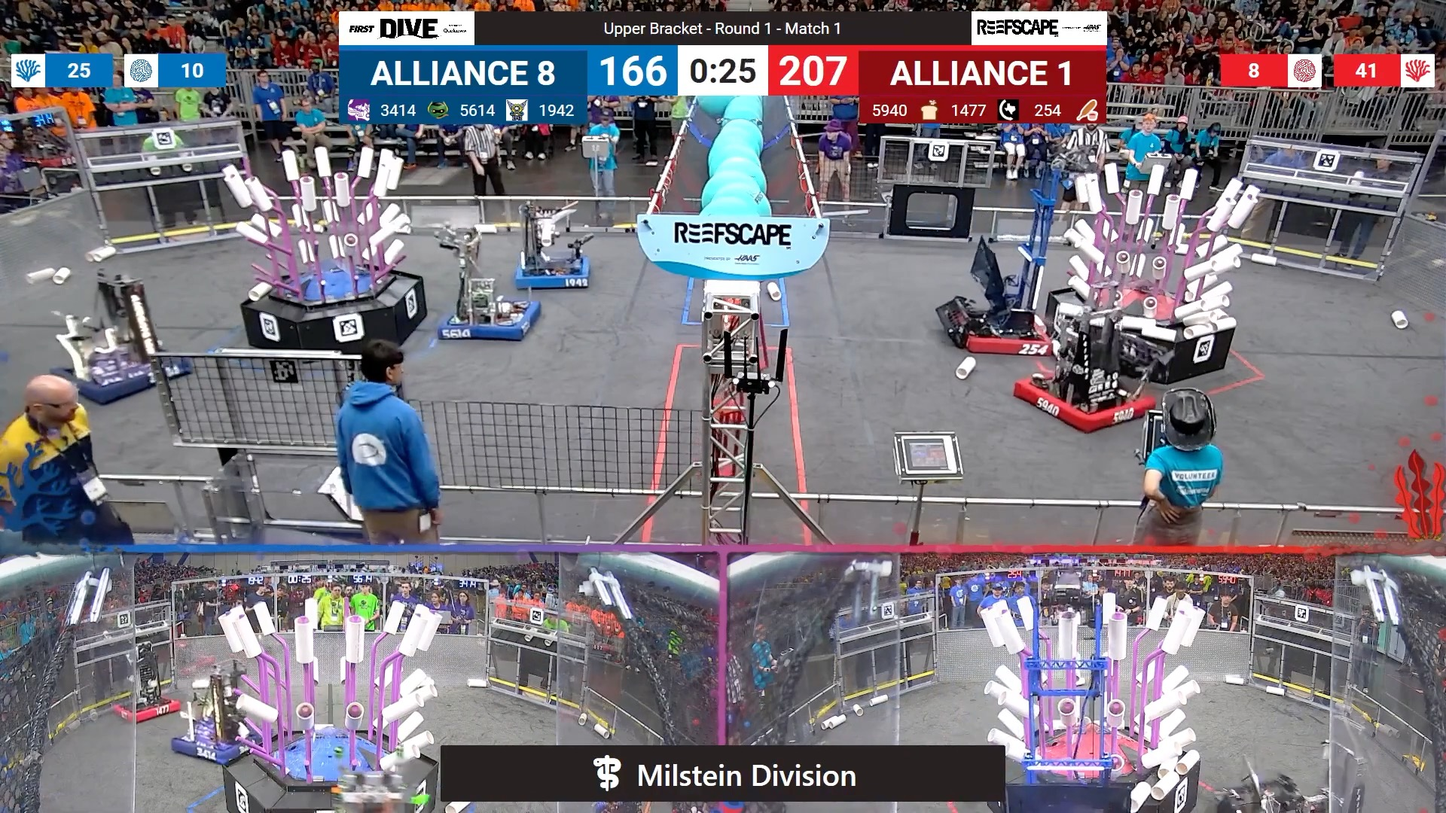bumpers: (1011, 367, 1171, 435), (49, 347, 197, 403), (947, 306, 1072, 363), (169, 723, 281, 770), (437, 297, 542, 347), (511, 250, 602, 296), (109, 693, 187, 727)
